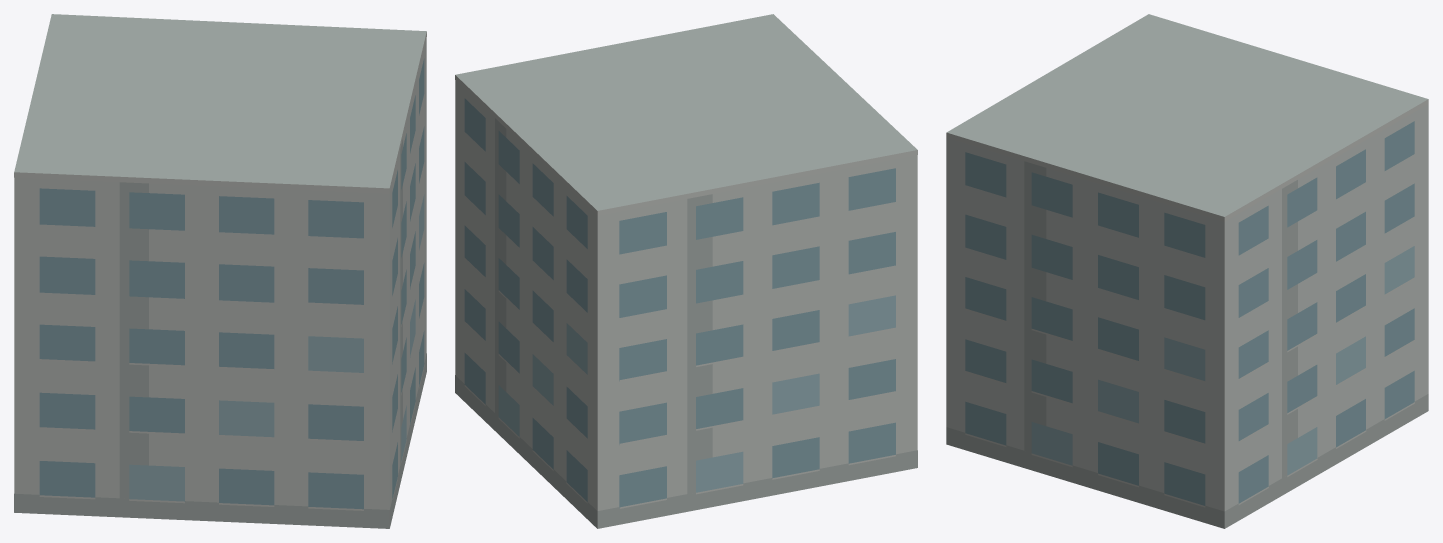
File: survey-upis-32796346.glb
3 renders of one model, left to right at view 1: azimuth 30°, elevation 25°; view 2: azimuth 150°, elevation 25°; view 3: azimuth 270°, elevation 25°, orthographic. The views are drawn at different scales.
Visible parts, largest first — view 1: survey-upis-32796346.tmp; view 2: survey-upis-32796346.tmp; view 3: survey-upis-32796346.tmp.
Part boxes in pixels (x1,y1,x2,y2): survey-upis-32796346.tmp: (14, 14, 426, 528); survey-upis-32796346.tmp: (455, 14, 917, 528); survey-upis-32796346.tmp: (946, 14, 1428, 528).
Bounding box in the file's own units: 21.29 × 15.25 × 21.37.
